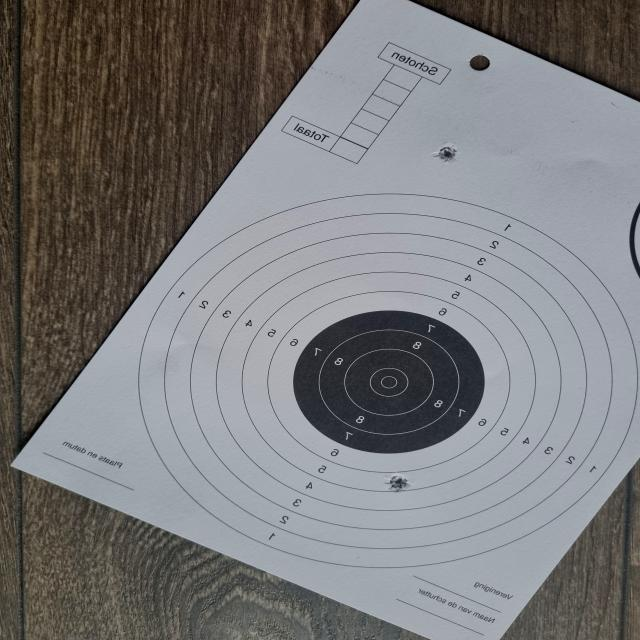0: (432, 146, 457, 163)
5: (384, 476, 410, 493)
Target: (140, 192, 639, 570)
black_contour: (291, 310, 486, 455)
